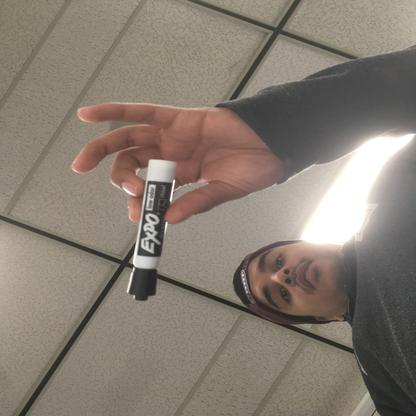expo_marker: (123, 156, 181, 302)
